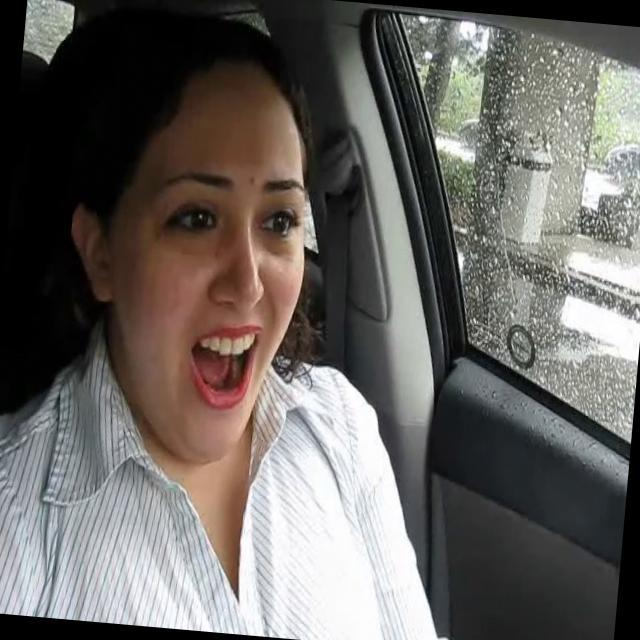Yawning: (188, 319, 263, 413)
